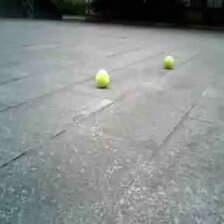tennis: (96, 69, 110, 86), (164, 55, 174, 67)
